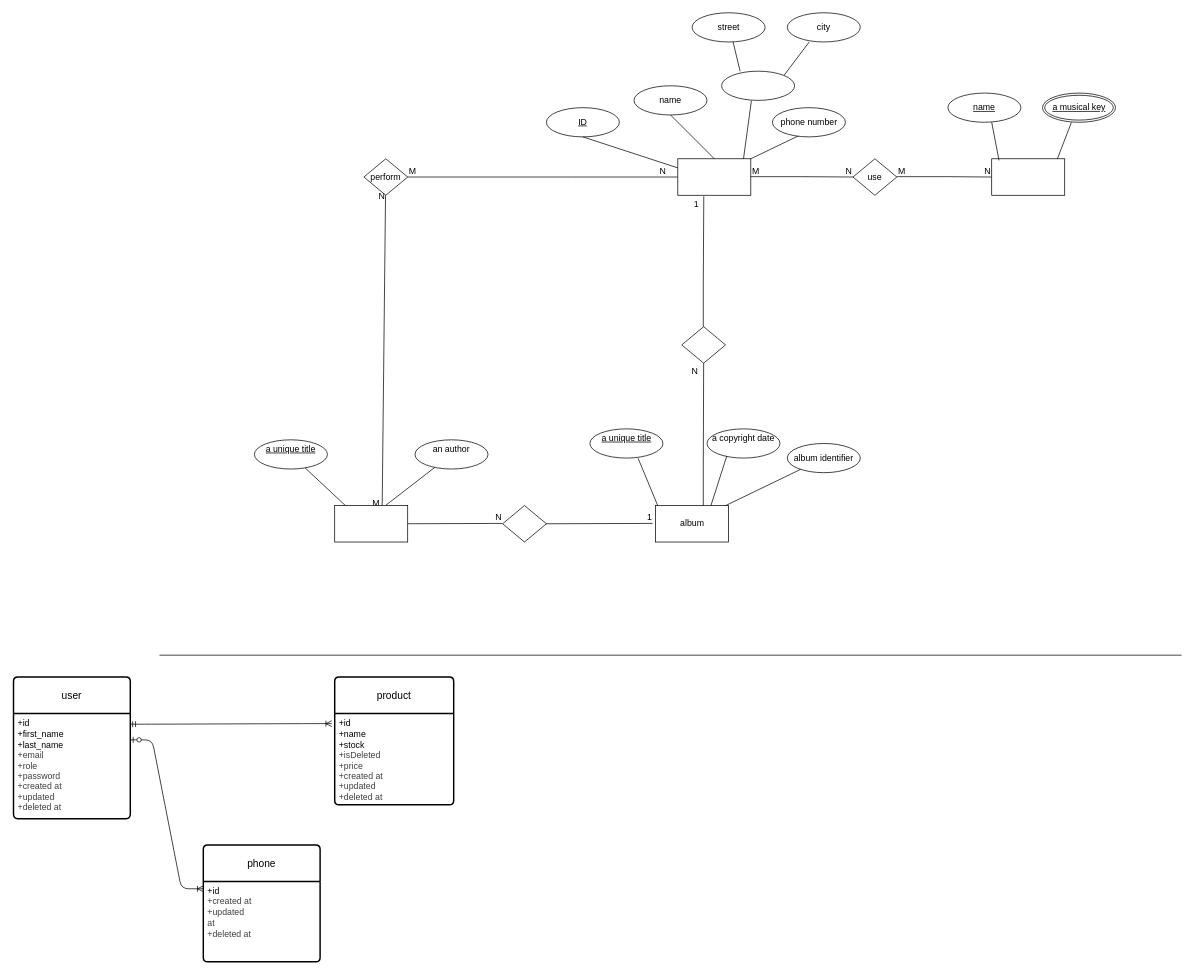
Some shapes in this 1195 by 975 pixel diagram are drawn without their labels. The shapes that lost their labels are listed below. From the top down, each one's centre as x and y in pixels, then its label:
At (758,85): "address".
At (714,176): "musician".
At (1028,176): "instrument".
At (703,344): "produce".
At (371,523): "song".
At (524,523): "has".
